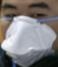with_mask: (1, 1, 58, 67)
